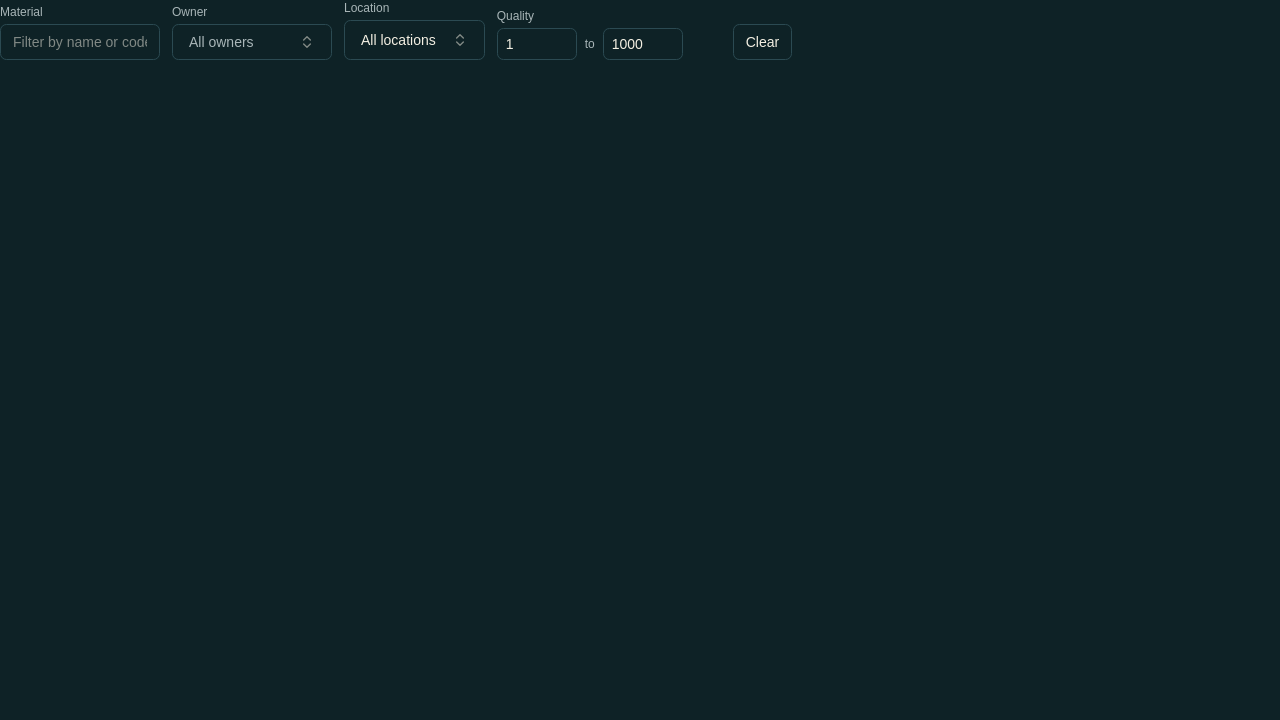
MaterialsFilters › renders owner dropdown with options
The image size is (1280, 720).
Click the dropdown labelled "All owners".
click(252, 42)  # box [172, 24, 332, 60]
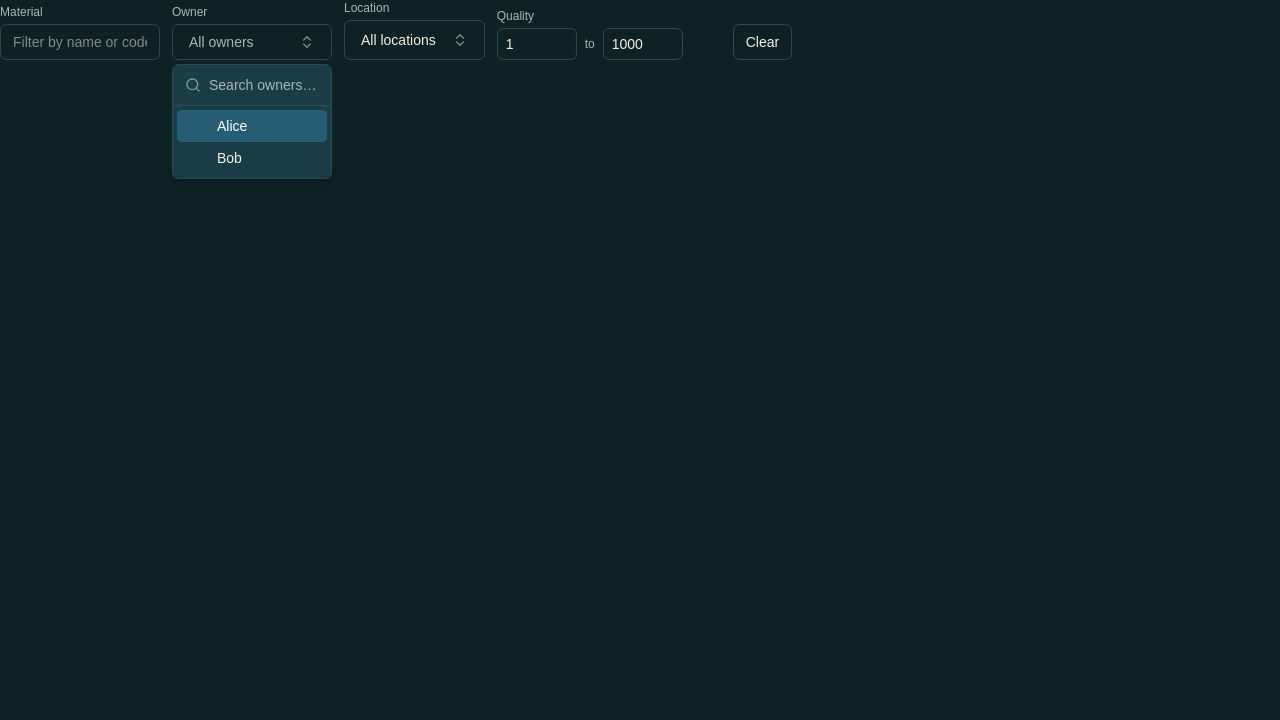
Now the option "Alice" is shown, box [177, 110, 327, 142]
Now the option "Bob" is shown, box [217, 150, 242, 166]
